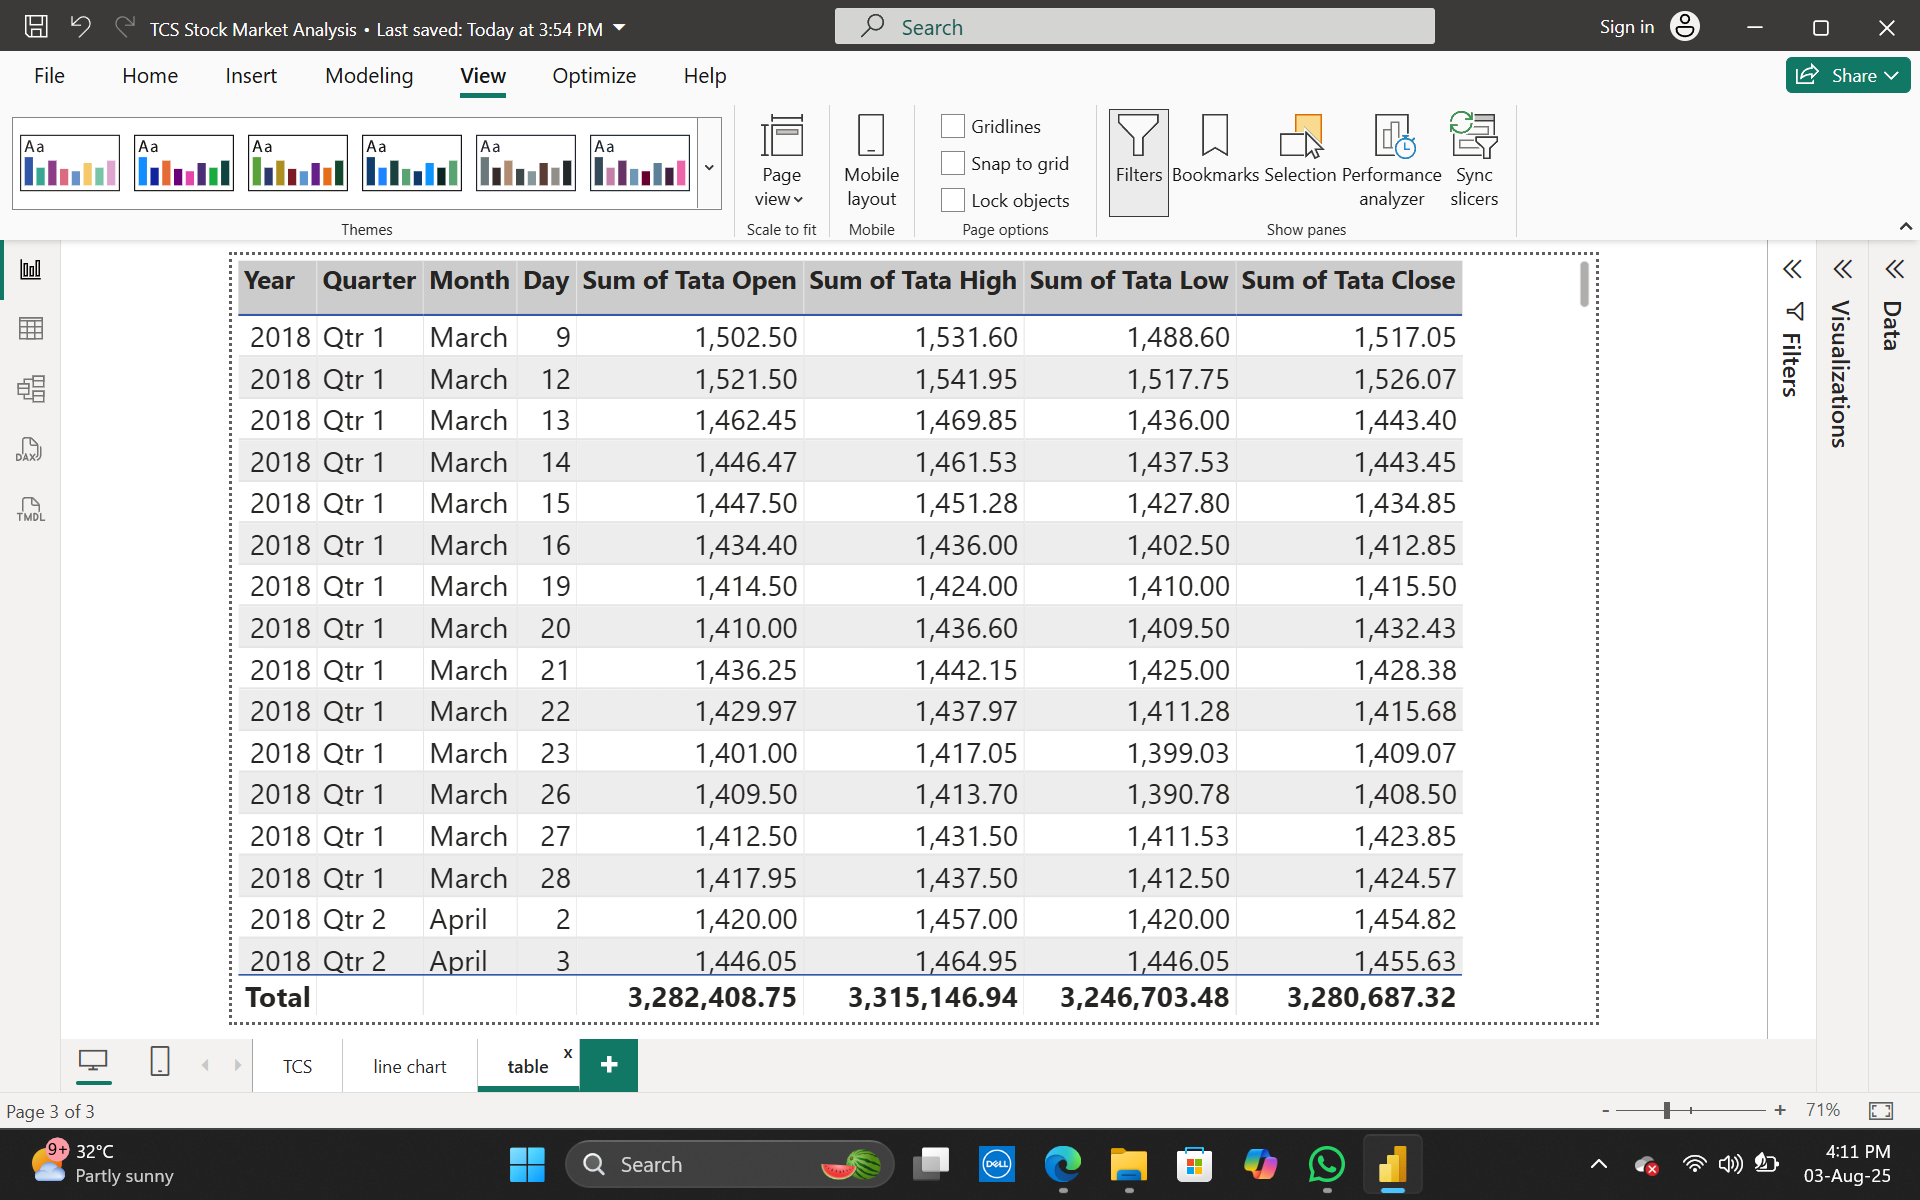

What the dashboard file says about the page in this screenshot:
{"tool":"powerbi","page":{"name":"table","canvas":[1280,720],"ordinal":2},"visuals":[{"type":"tableEx","fields":{"Values":["TCS NS.Date.Variation.Date Hierarchy.Year","TCS NS.Date.Variation.Date Hierarchy.Quarter","TCS NS.Date.Variation.Date Hierarchy.Month","TCS NS.Date.Variation.Date Hierarchy.Day","Sum(TCS NS.Tata Open)","Sum(TCS NS.Tata High)","Sum(TCS NS.Tata Low)","Sum(TCS NS.Tata Close)"]},"box":[0,0,1279.6,718.5],"z":0}]}

Visuals, with their boxes on the page's 1280x720 design canvas (x1, y1, x2, y2). These are canvas units, not pixel positions in the 1920x1200 screenshot, which may show the page scaled, cropped or inside an application window:
tableEx - TCS NS.Date.Variation.Date Hierarchy.Year x TCS NS.Date.Variation.Date Hierarchy.Quarter: <box>0,0,1280,718</box>
